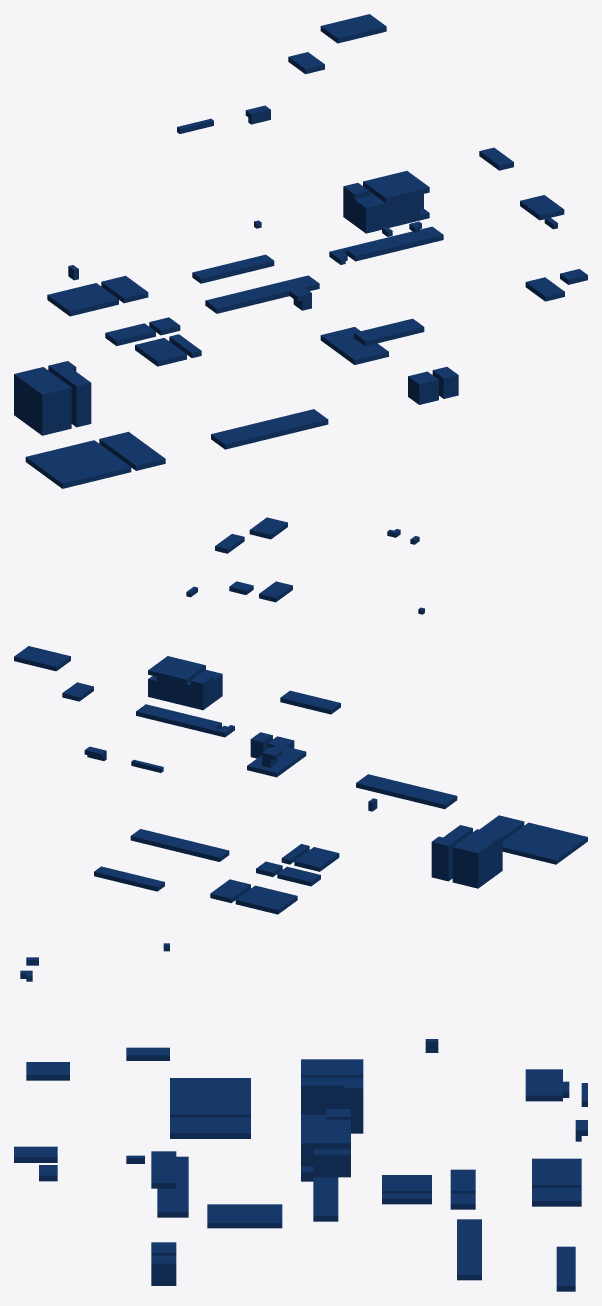
File: 强蓝光.obj
3 views of the same model, one above another, from view 1: azimuth 30°, elevation 25°; view 2: azimuth 150°, elevation 25°; view 3: azimuth 270°, elevation 25° (orthographic). The views are drawn at different scales.
Parts seen in each view (by area): view 1: 强蓝光; view 2: 强蓝光; view 3: 强蓝光.
Boxes of the visible parts, box(x1,y1,x2,y2) form: 强蓝光: box(14, 14, 587, 488); 强蓝光: box(14, 517, 587, 914); 强蓝光: box(14, 943, 587, 1291).
Bounding box in the file's own units: 99 × 47 × 92.
1 material, 1 textured.
